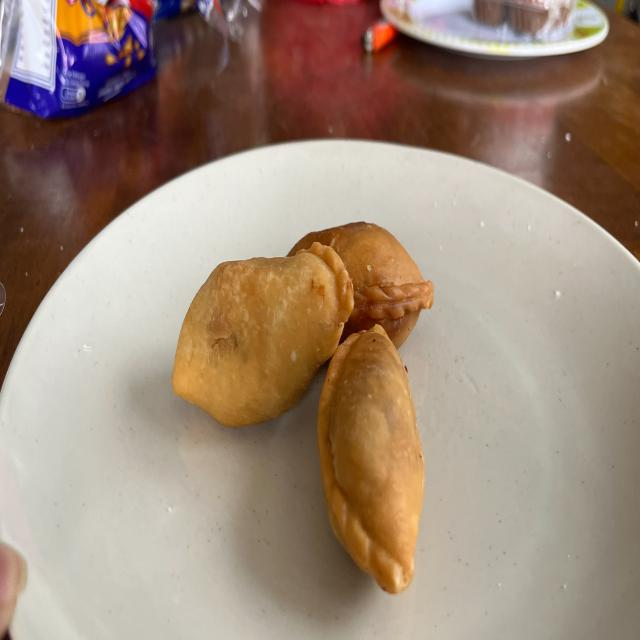karipap: (171, 242, 354, 427), (318, 324, 425, 593), (290, 222, 434, 347)
